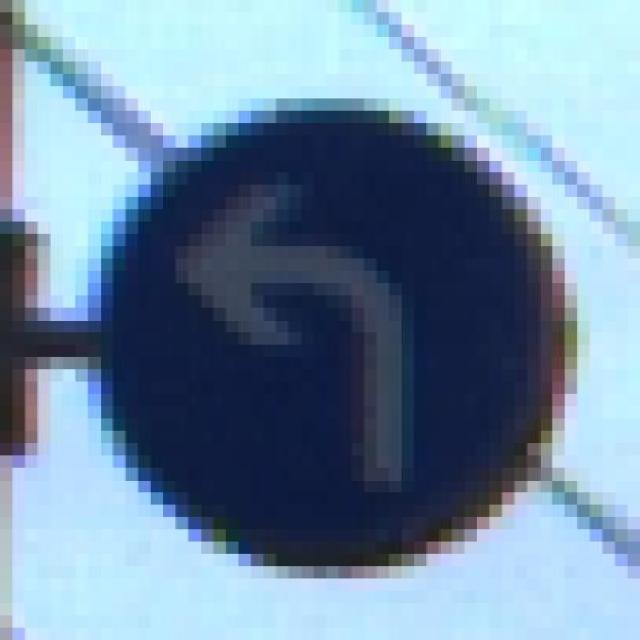Turn left ahead: (88, 86, 603, 579)
